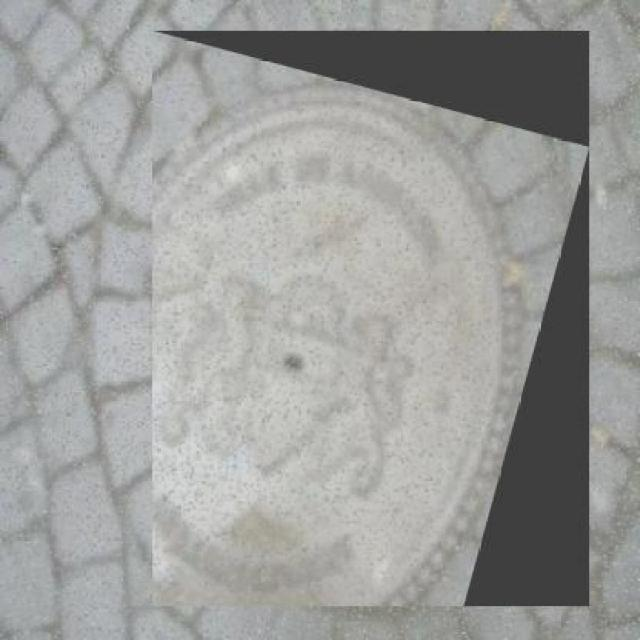Manhole: (152, 31, 590, 606)
